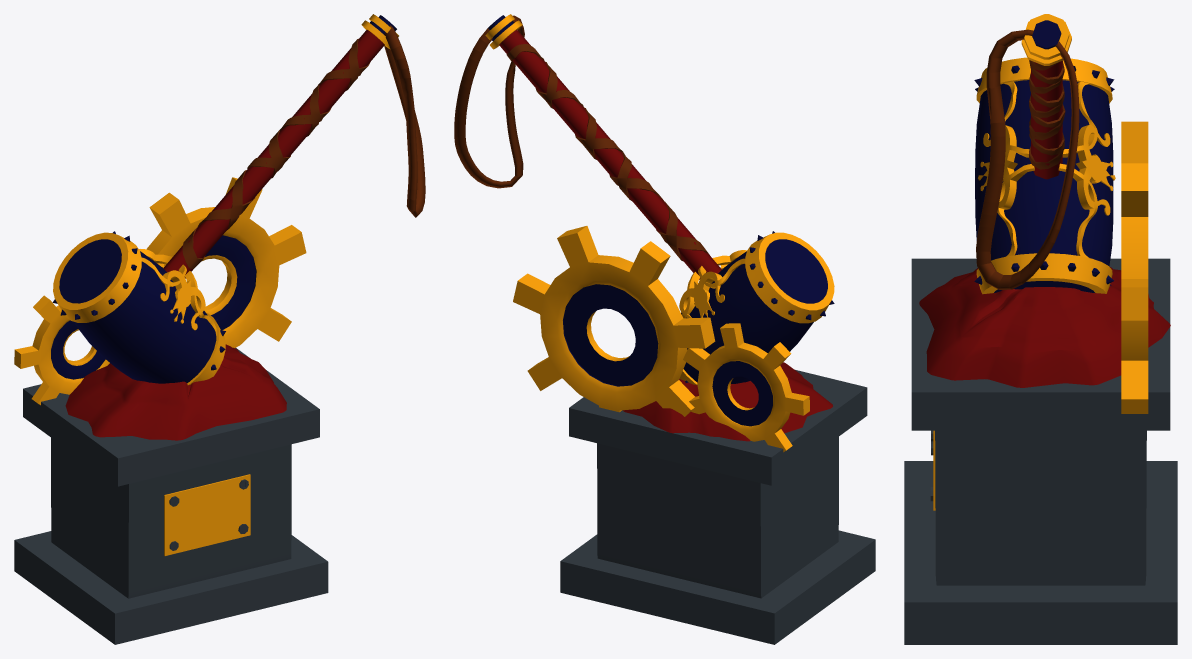
The model's file is Statue.fbx.
3 views of the same model, side by side, from view 1: azimuth 30°, elevation 25°; view 2: azimuth 150°, elevation 25°; view 3: azimuth 270°, elevation 25° (orthographic). The views are drawn at different scales.
Parts seen in each view (by area): view 1: Statue Body, Hammer; view 2: Statue Body, Hammer; view 3: Statue Body, Hammer.
Boxes of the visible parts, x1,y1,x2,y2 form: Statue Body: [14, 177, 328, 644]; Hammer: [52, 14, 425, 385]; Statue Body: [513, 226, 875, 644]; Hammer: [454, 14, 834, 385]; Statue Body: [904, 121, 1177, 644]; Hammer: [974, 14, 1115, 294].
Size of the model in its own units: 0.462 by 0.6029 by 0.2141.
